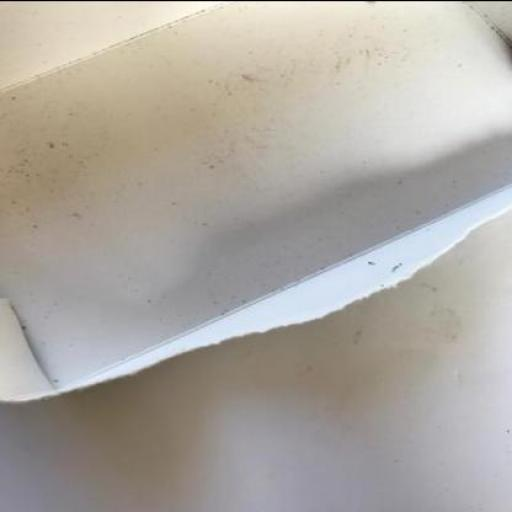paper: (0, 0, 511, 400)
